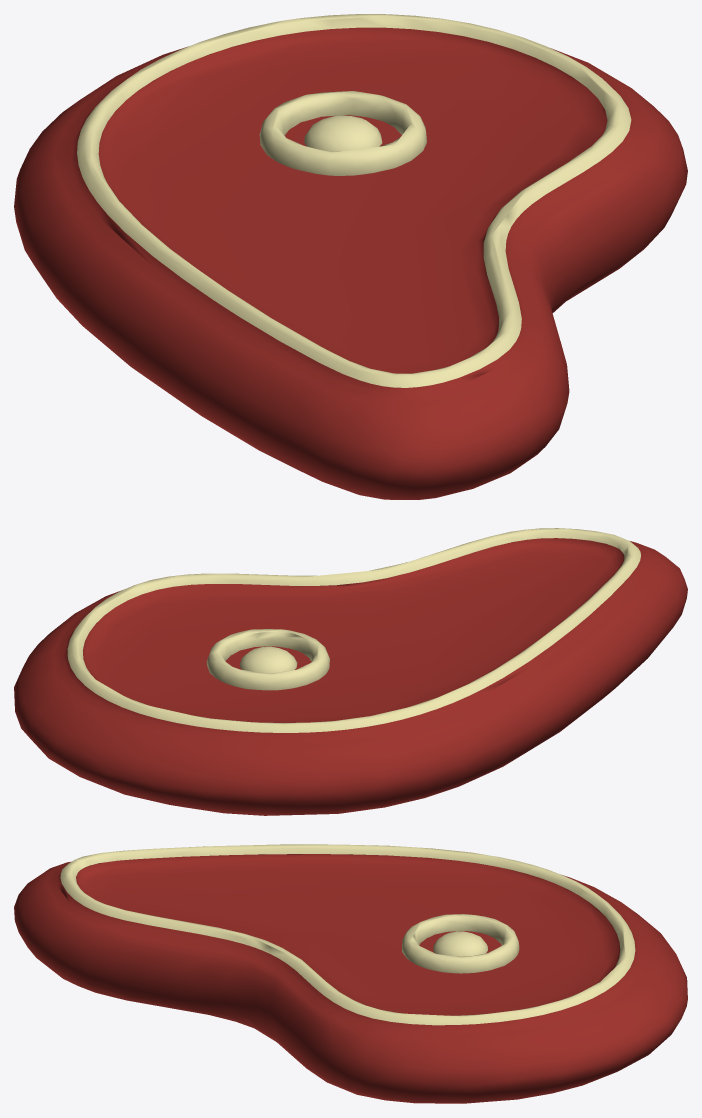
File: Food (3).fbx
The picture shows the model from 3 angles, top to bottom: view 1: azimuth 30°, elevation 25°; view 2: azimuth 150°, elevation 25°; view 3: azimuth 270°, elevation 25°; orthographic projection. The views are drawn at different scales.
Visible parts, largest first — view 1: Plane.001; view 2: Plane.001; view 3: Plane.001.
Part boxes in pixels (x1,y1,x2,y2): Plane.001: (14, 14, 687, 499); Plane.001: (14, 528, 687, 815); Plane.001: (14, 844, 687, 1103).
Size of the model in its own units: 15.8 by 2.77 by 20.97.
